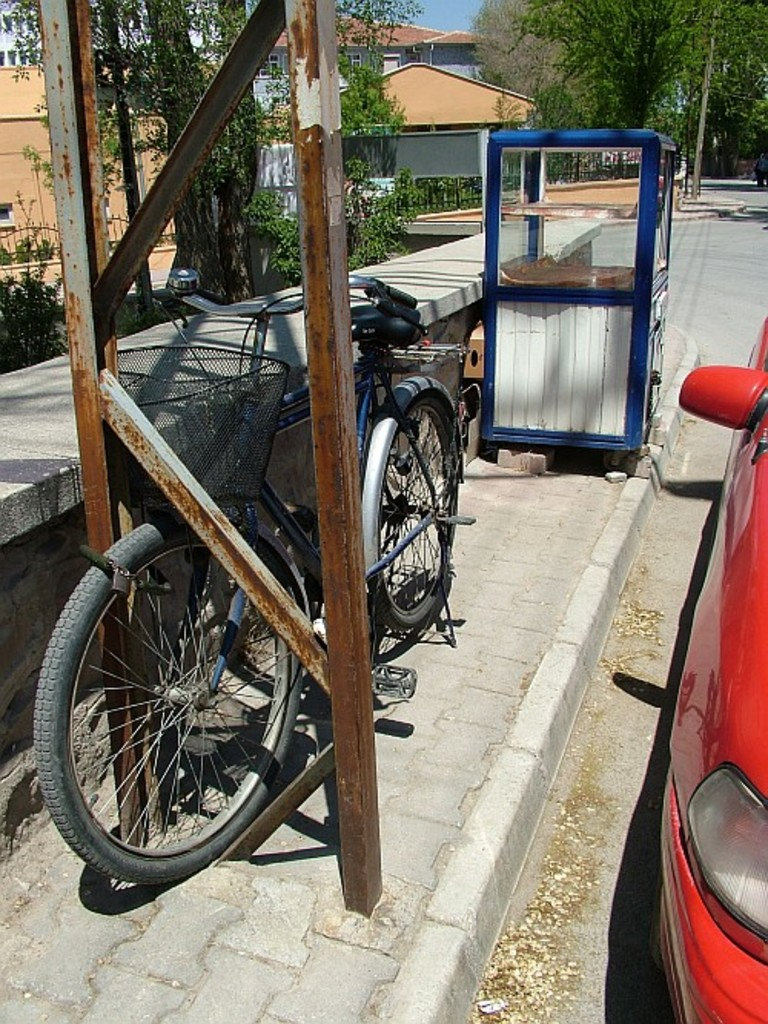Car: (654, 314, 766, 1022)
